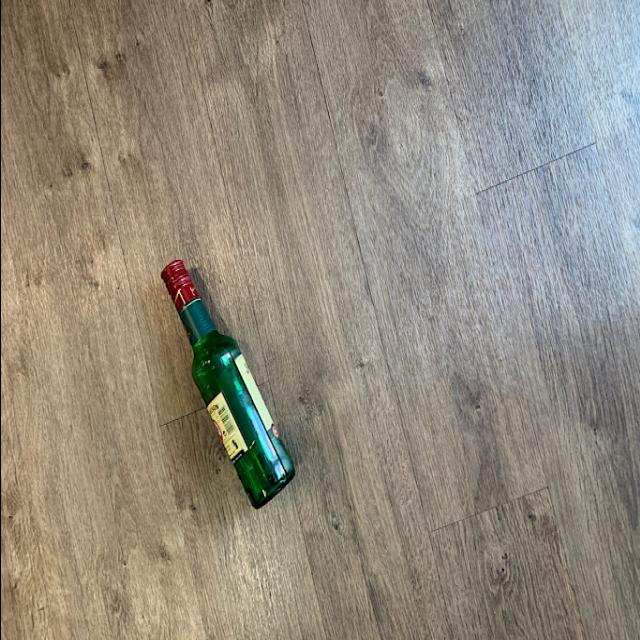Glass Bottle: (156, 250, 294, 515)
